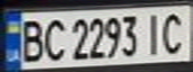2: (66, 15, 90, 62), (87, 14, 106, 61)
3: (118, 11, 145, 57)
9: (103, 12, 124, 60)
B: (15, 16, 48, 63)
C: (157, 8, 193, 55), (39, 15, 69, 63)
I: (139, 10, 169, 56)
